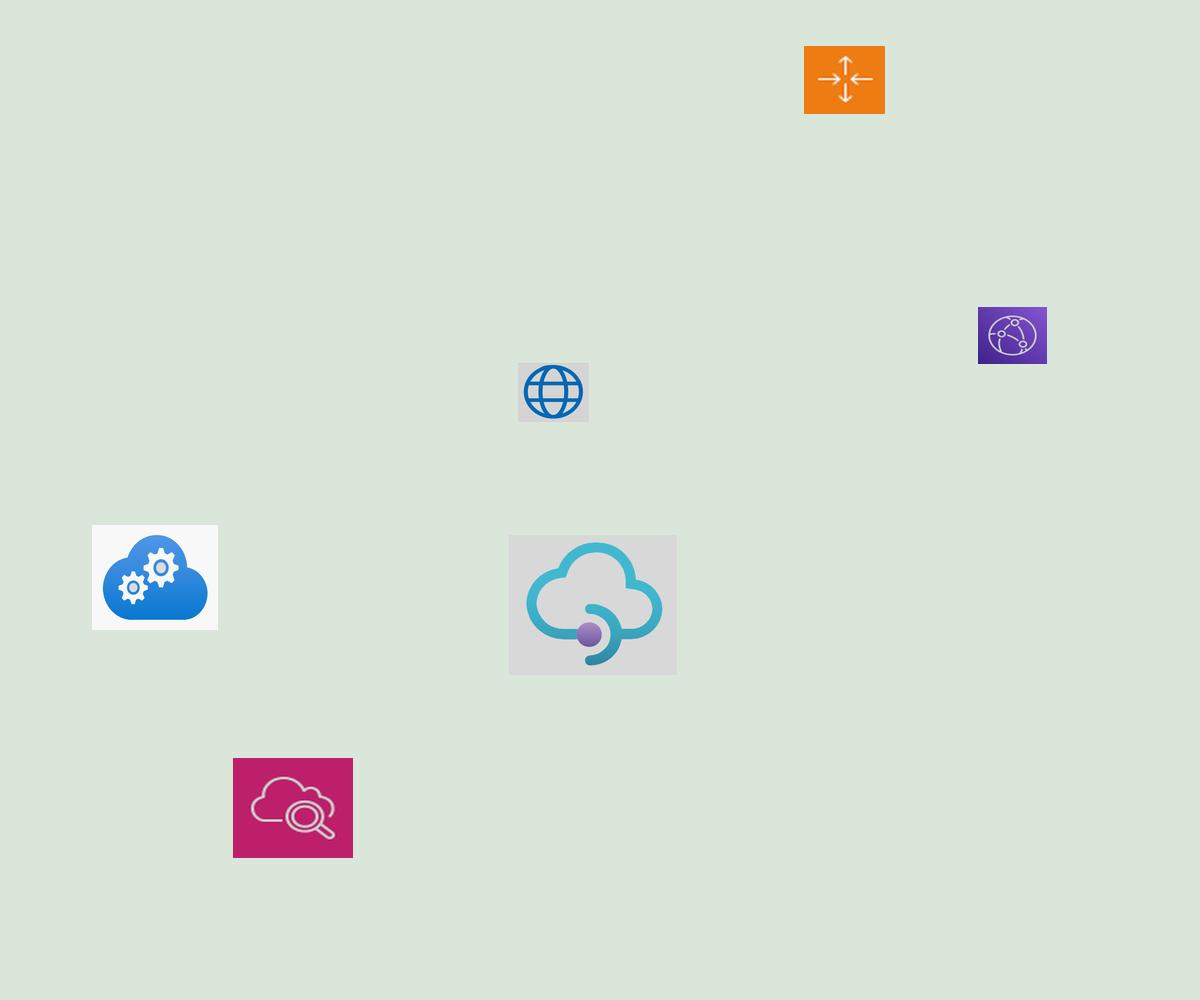AWS-CloudFront: (978, 307, 1047, 364)
AWS-CloudWatch: (233, 758, 353, 858)
AWS-Scaling-group: (804, 46, 885, 114)
Azure_api_gateway: (509, 535, 677, 675)
Azure_cloud_services: (92, 525, 218, 630)
Azure_http: (518, 363, 589, 422)
